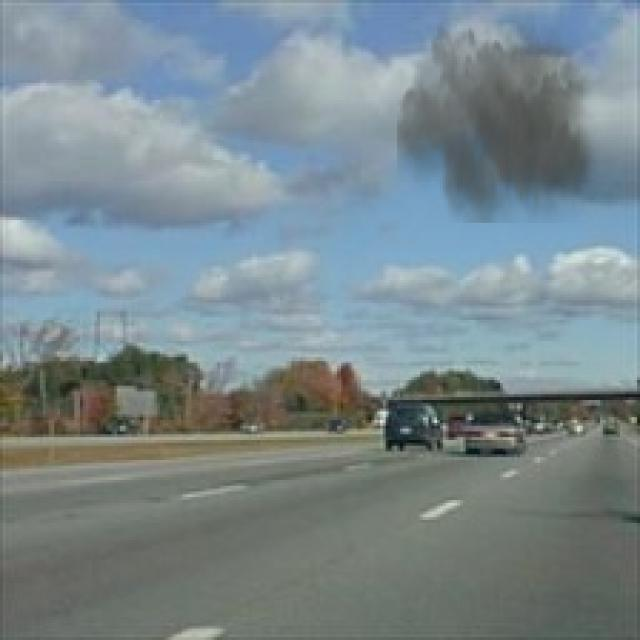Smoke: (397, 0, 603, 223)
